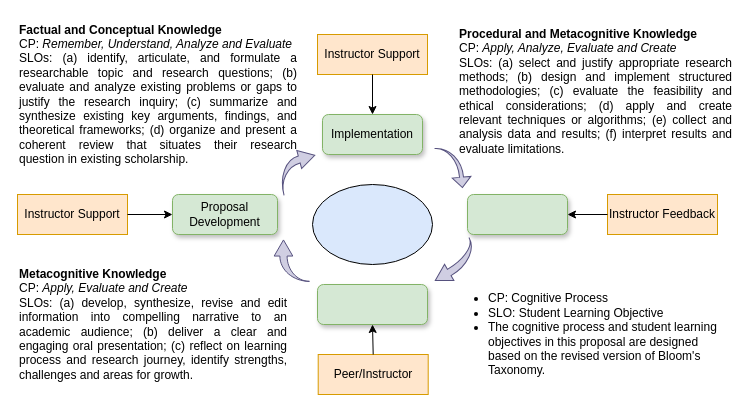
Image size: 750x412. Some labels were removed from this diagram. The shapes that lost their labels are listed below. From the top down, each one's centre as x and y in pixels, then its label:
At pixel 372 224: "Student Groups".
At pixel 518 216: "Presentation".
At pixel 373 306: "Evaluation".
